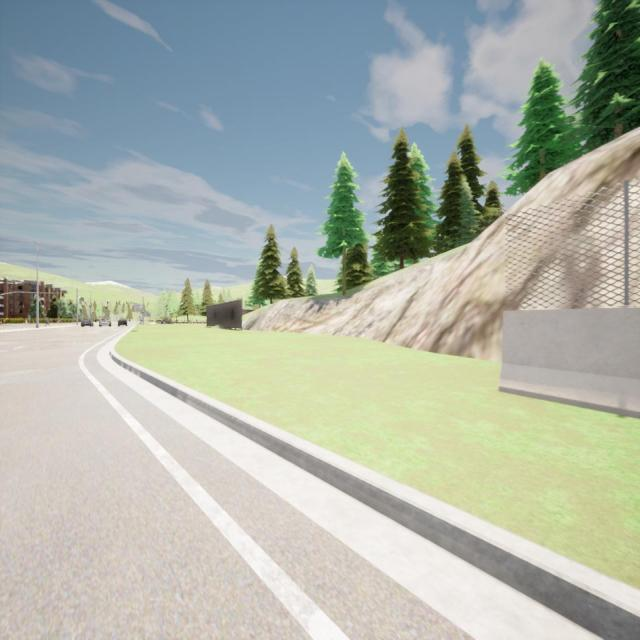Pedestrian: (44, 316, 50, 327)
Vehicle: (81, 316, 93, 326), (156, 318, 173, 325), (99, 318, 111, 327), (118, 318, 128, 327)
